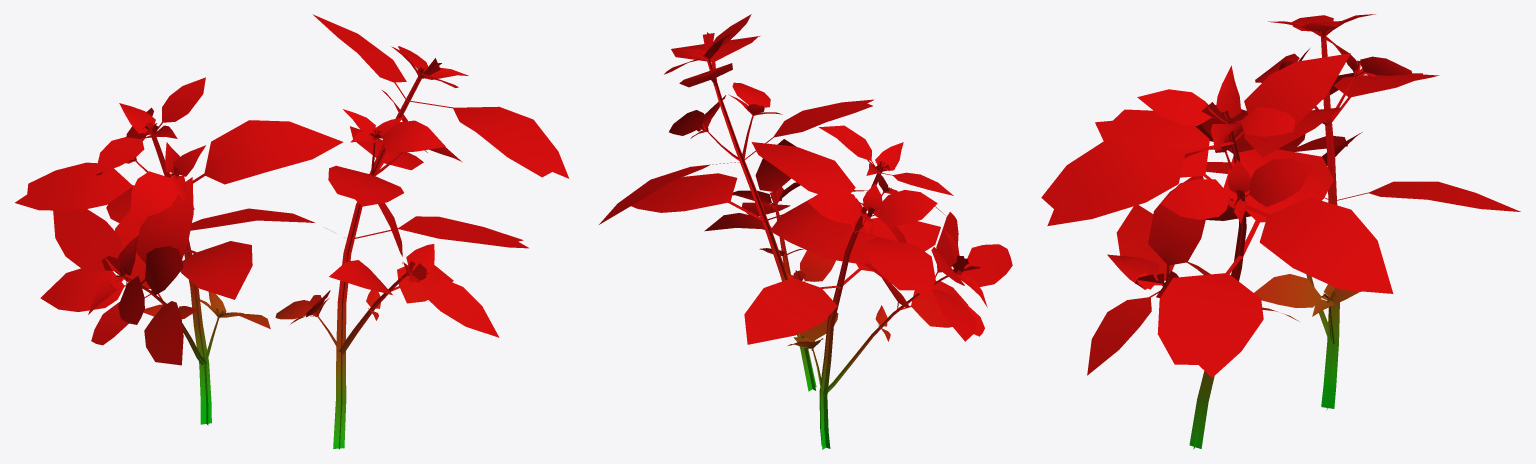
File: Common Hemp Nettle_LOD4_Var3_xh1kdfbqx.fbx
3 views of the same model, side by side, from view 1: azimuth 30°, elevation 25°; view 2: azimuth 150°, elevation 25°; view 3: azimuth 270°, elevation 25° (orthographic). The views are drawn at different scales.
Parts seen in each view (by area): view 1: _ltov_Var3_LOD4; view 2: _ltov_Var3_LOD4; view 3: _ltov_Var3_LOD4.
Boxes of the visible parts, x1,y1,x2,y2 form: _ltov_Var3_LOD4: [15, 14, 569, 449]; _ltov_Var3_LOD4: [599, 14, 1012, 449]; _ltov_Var3_LOD4: [1041, 14, 1520, 449].
Bounding box in the file's own units: 59.28 × 50.31 × 52.13.
